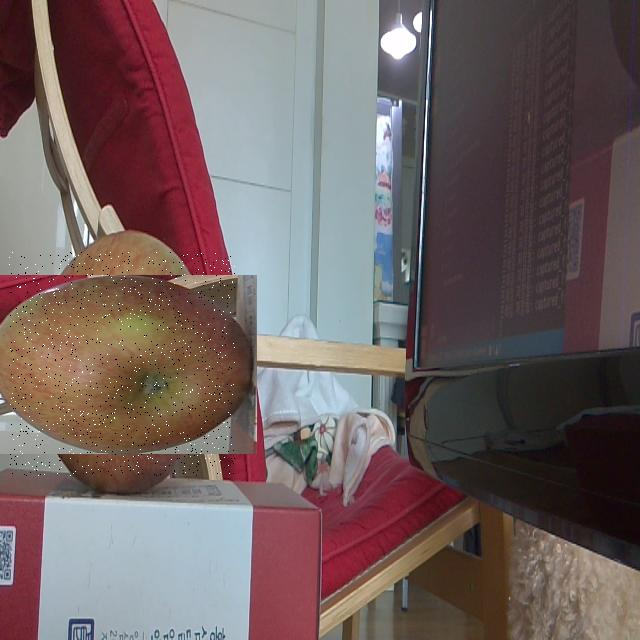apple: (9, 252, 235, 476)
